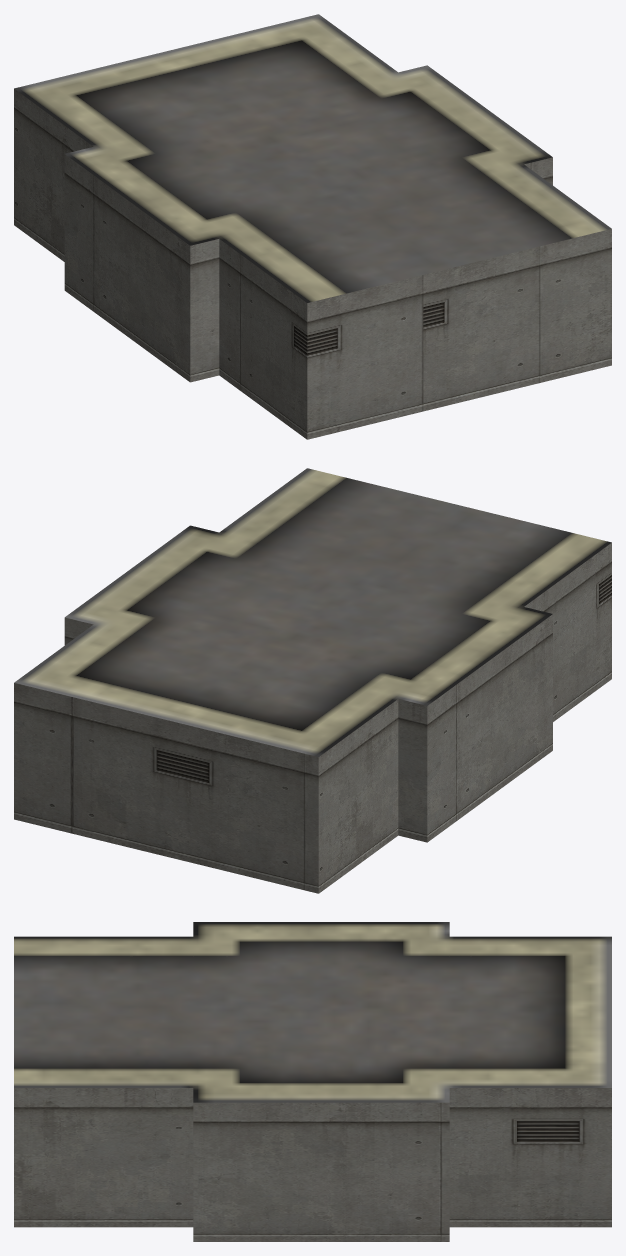
Rendered from building_medium_08.glb.
3 views of the same model, one above another, from view 1: azimuth 30°, elevation 25°; view 2: azimuth 150°, elevation 25°; view 3: azimuth 270°, elevation 25° (orthographic).
Visible parts, largest first — view 1: buildings/saxarba/building_medium/building_medium_08; view 2: buildings/saxarba/building_medium/building_medium_08; view 3: buildings/saxarba/building_medium/building_medium_08.
Boxes of the visible parts, <box> form: buildings/saxarba/building_medium/building_medium_08: <box>14,14,611,439</box>; buildings/saxarba/building_medium/building_medium_08: <box>14,468,611,893</box>; buildings/saxarba/building_medium/building_medium_08: <box>14,922,611,1241</box>.
Bounding box in the file's own units: 50 × 18 × 70.
